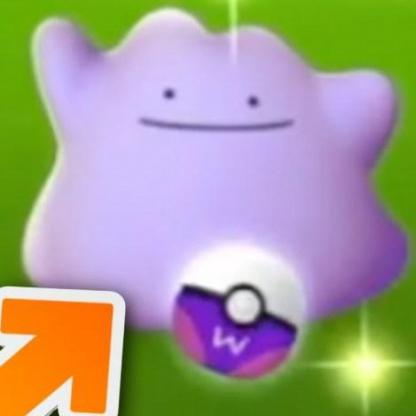Ditto: (1, 13, 416, 413)
